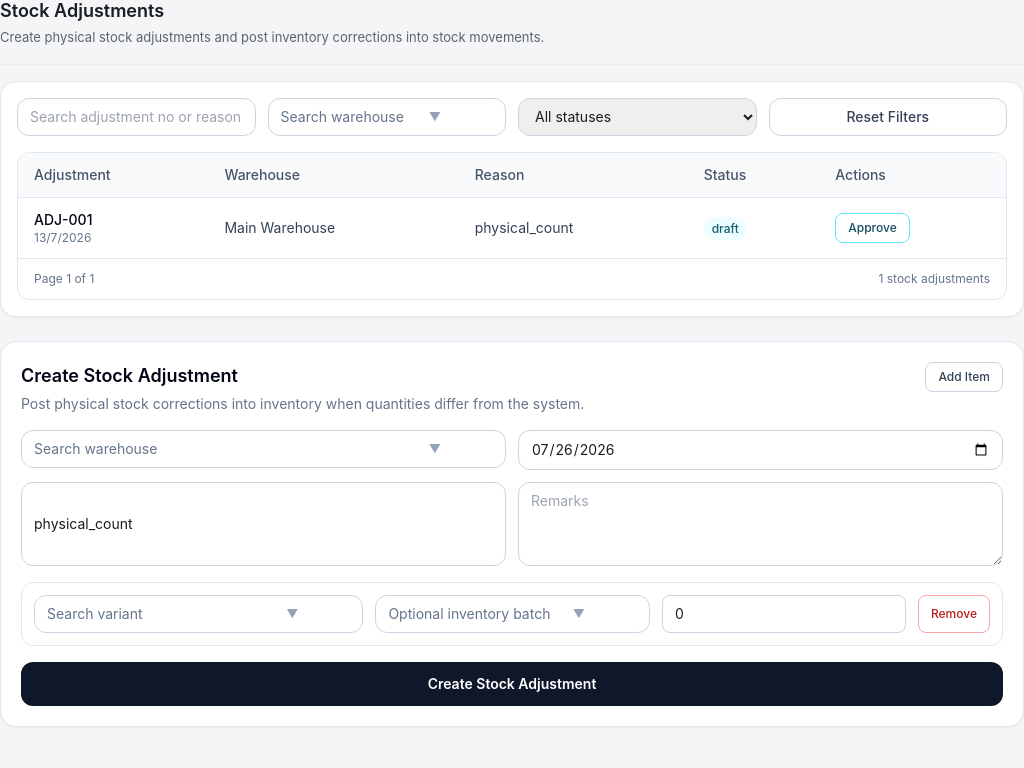
Test: InventoryAdjustmentsView › shows validation when stock adjustment is submitted without warehouse
Check: the text "ADJ-001" is shown, box [34,211,92,228]
Step 1. Click the button "Create Stock Adjustment" → {"x": 512, "y": 684}, box [21,662,1003,706]
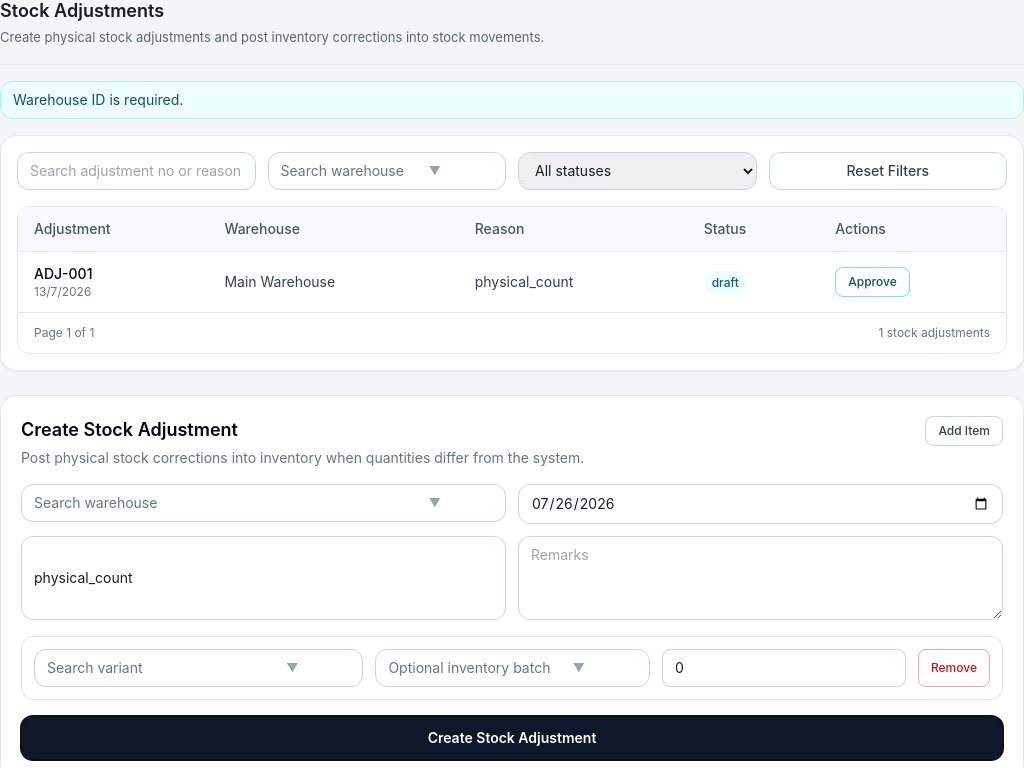
Check: the text "Warehouse ID is required." is shown, box [0,81,1023,119]
